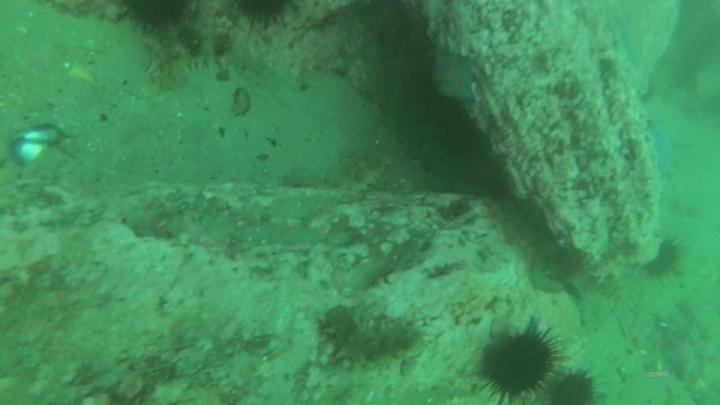echinus: (474, 319, 563, 403), (117, 1, 195, 36), (227, 1, 301, 33), (544, 367, 599, 404), (643, 235, 686, 280)
holothurian: (317, 303, 421, 368), (143, 21, 235, 90), (598, 51, 638, 131), (333, 151, 393, 202)
starfish: (428, 46, 482, 108), (656, 325, 704, 382), (644, 117, 681, 181)
